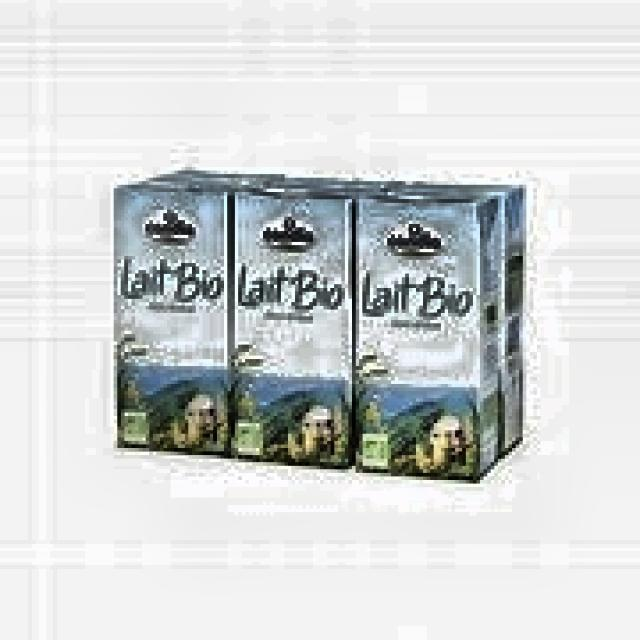cardboard: (110, 164, 526, 484)
